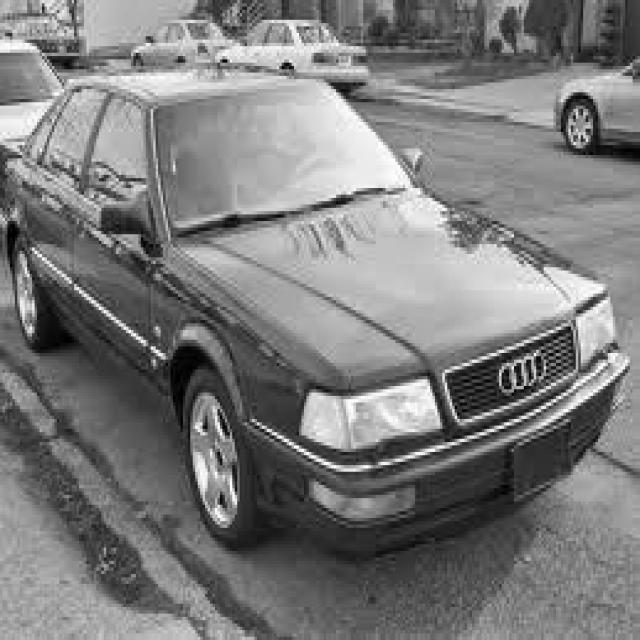car: (0, 53, 630, 554), (215, 17, 371, 92), (551, 46, 638, 158), (129, 16, 237, 66)
